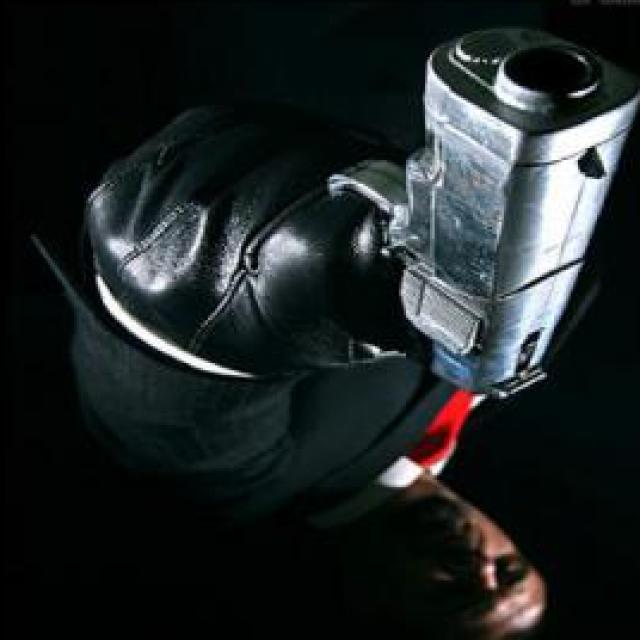pistol: (294, 30, 632, 399)
